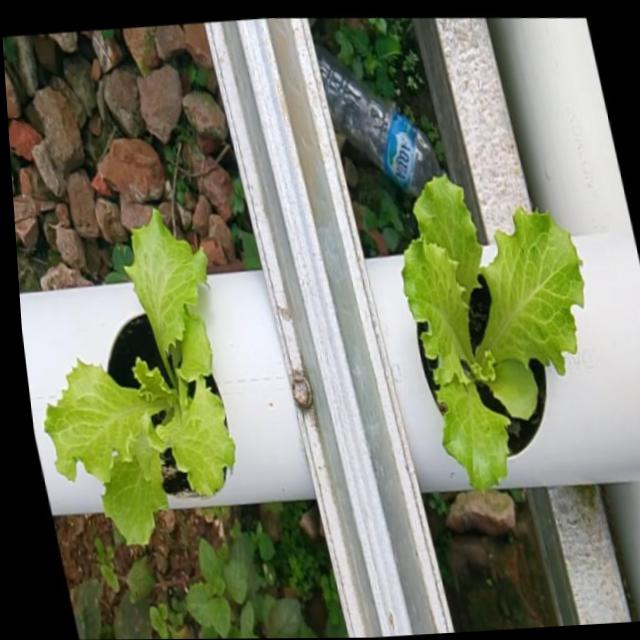Baby: (41, 210, 233, 547), (399, 176, 583, 496)
